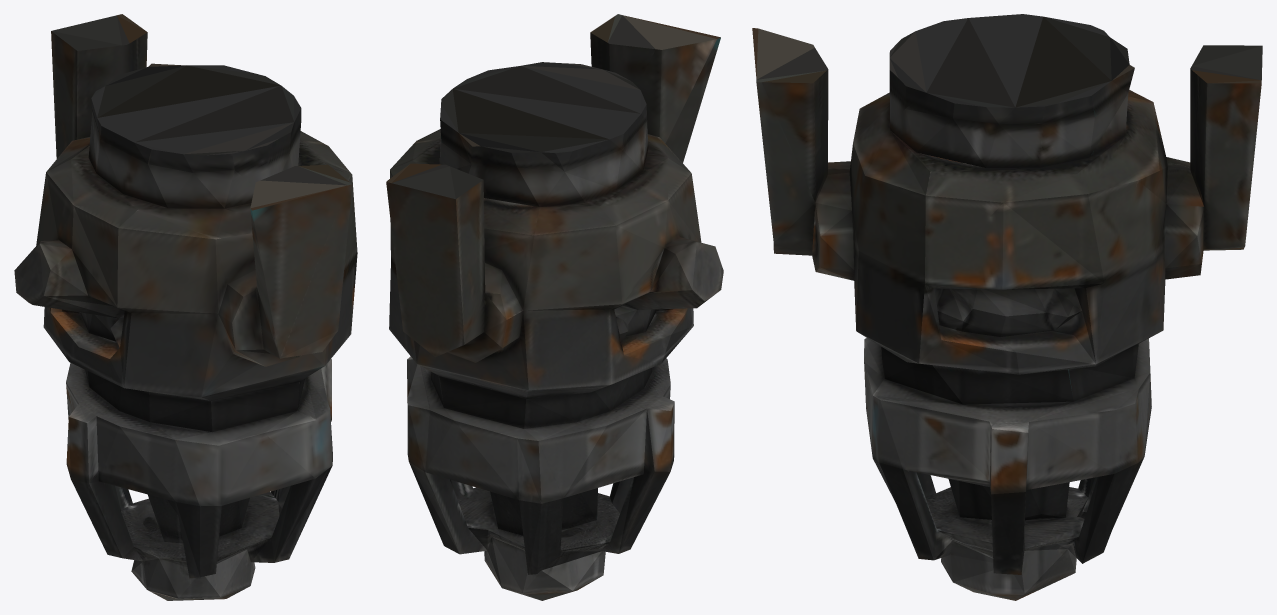
The model's file is SM_DroneLaser.fbx.
3 views of the same model, side by side, from view 1: azimuth 30°, elevation 25°; view 2: azimuth 150°, elevation 25°; view 3: azimuth 270°, elevation 25° (orthographic). The views are drawn at different scales.
Parts seen in each view (by area): view 1: SM_DroneLaser; view 2: SM_DroneLaser; view 3: SM_DroneLaser.
Part boxes in pixels (x1,y1,x2,y2): SM_DroneLaser: [14, 14, 357, 600]; SM_DroneLaser: [386, 14, 723, 600]; SM_DroneLaser: [752, 14, 1262, 600].
Size of the model in its own units: 12.64 by 19 by 16.74.
1 material, 1 textured.
